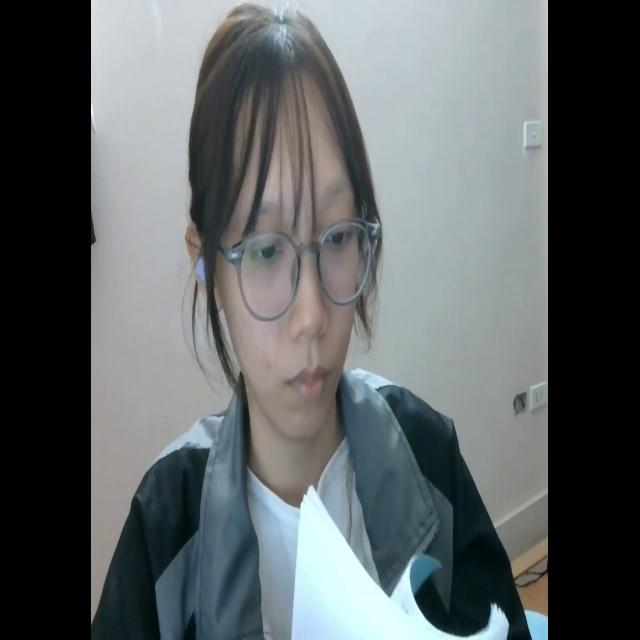book: (288, 481, 509, 640)
student: (108, 4, 530, 640)
